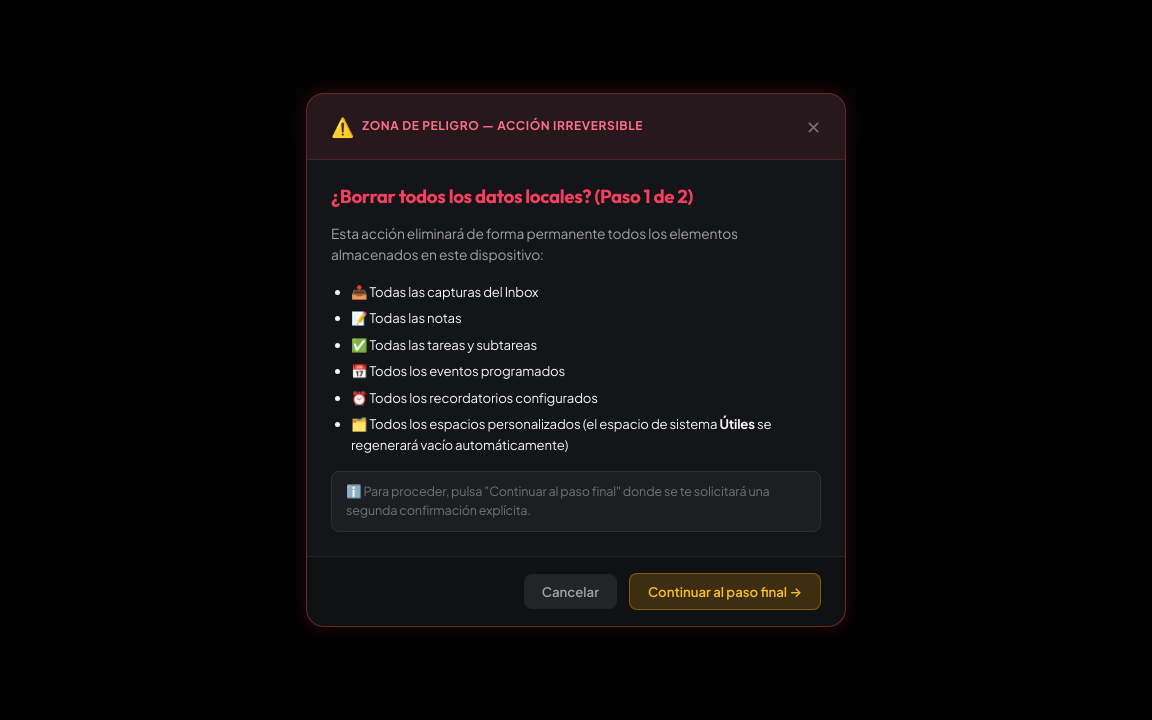
Test case: BorrarDatosModalComponent (T-11.1 Doble Confirmación) › debe avanzar al Paso 2 al pulsar continuar
The width and height of the screenshot is (1152, 720).
Click the button with id "btn-continuar-paso-2".
click(725, 592)  # box [629,573,821,610]
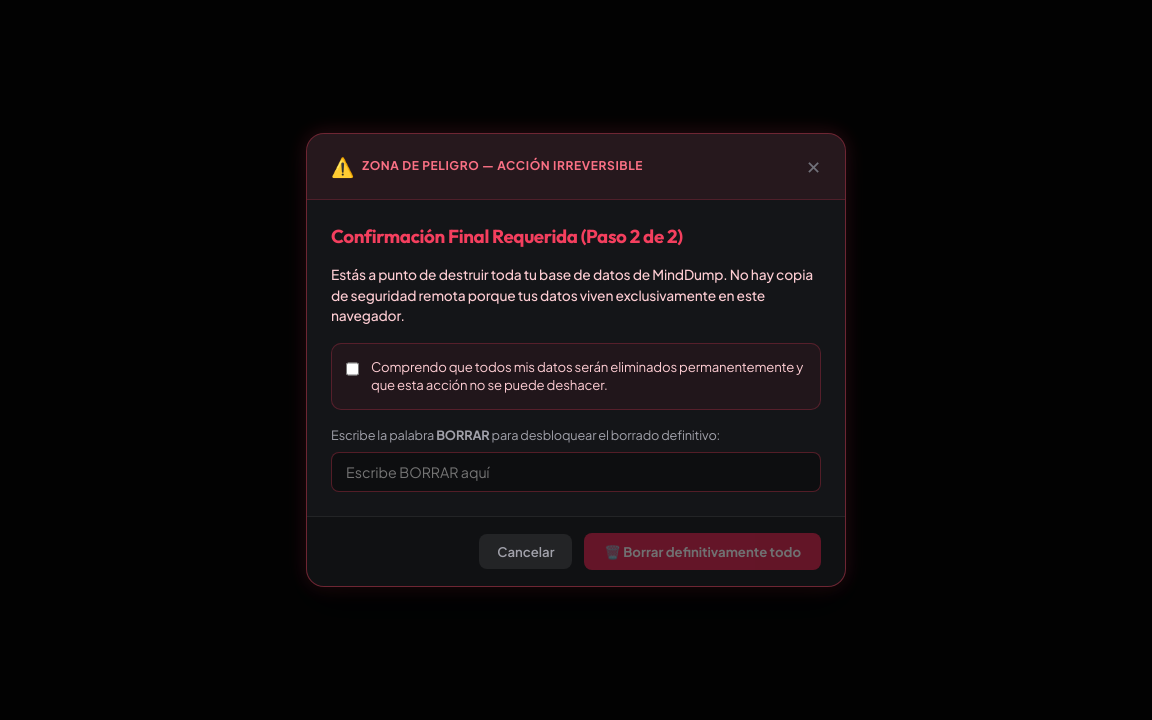
Now the text "Paso 2 de 2" is shown, box [331,224,683,248]
